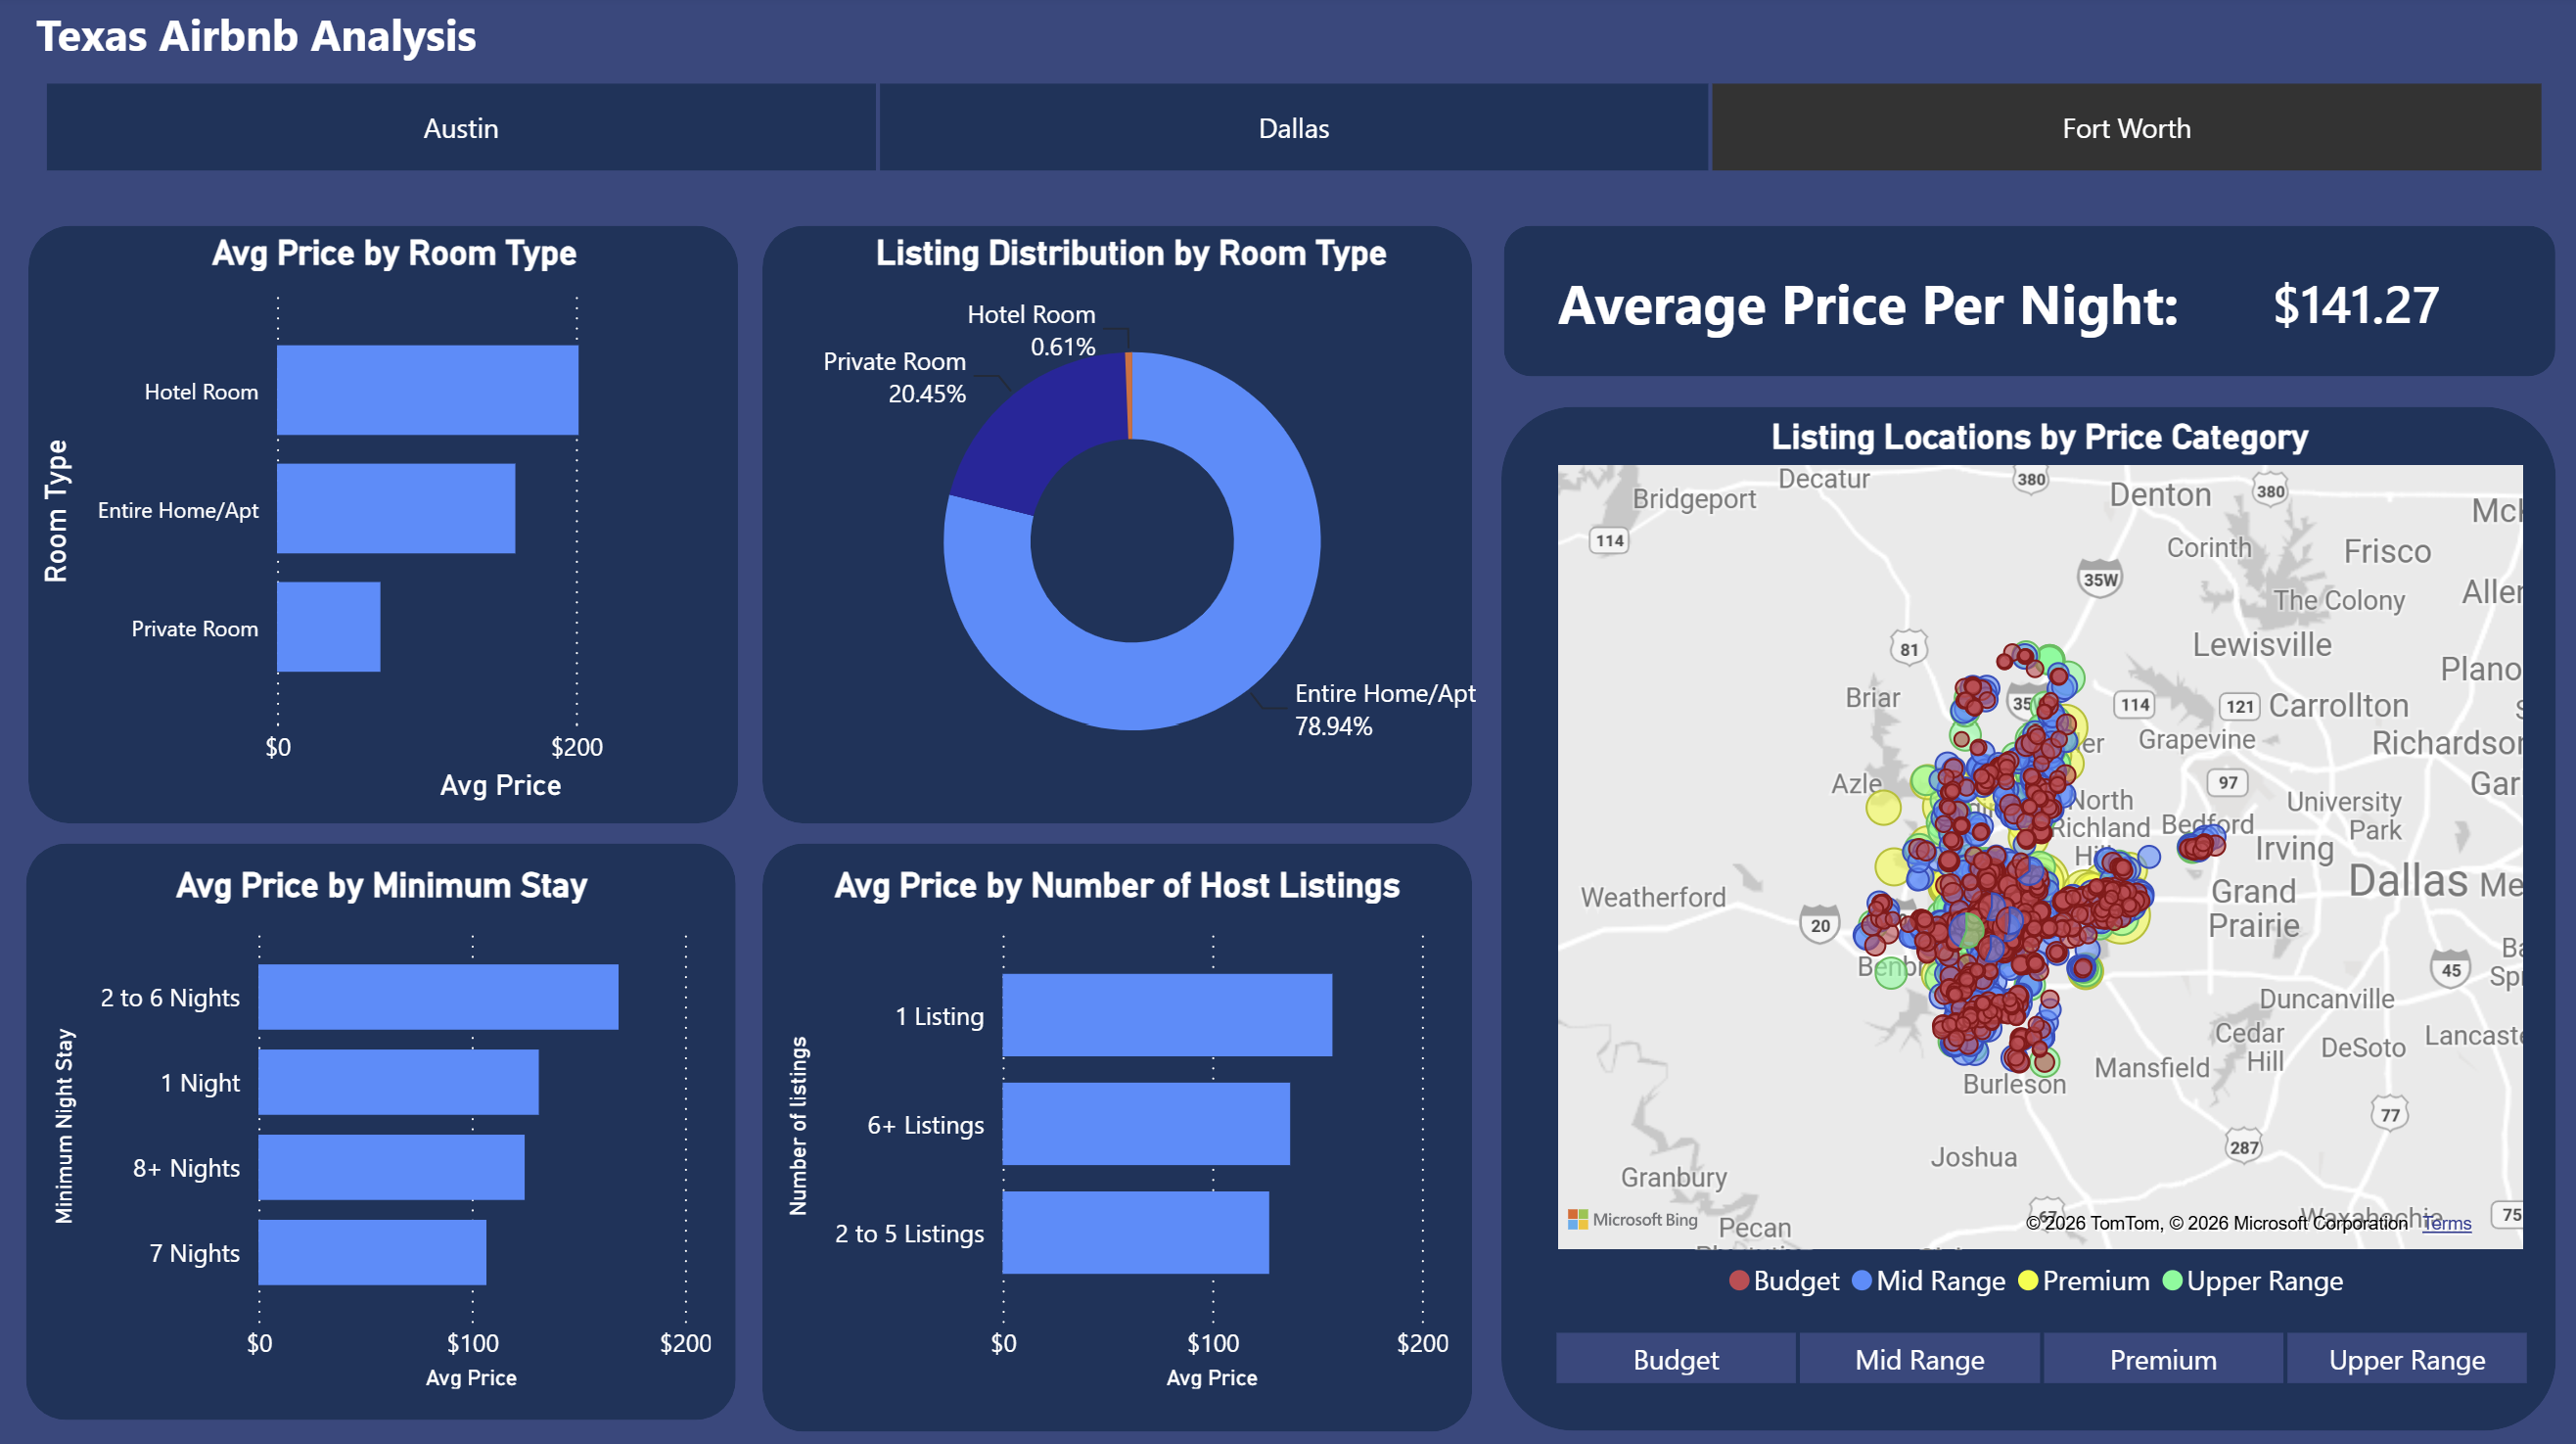

What the dashboard file says about the page in this screenshot:
{"tool":"powerbi","page":{"name":"Page 1","canvas":[1280,720],"ordinal":0},"visuals":[{"type":"shape","box":[744.3,114.3,518.6,74.3],"z":0},{"type":"shape","box":[742.9,204.3,520,504.3],"z":1000},{"type":"shape","box":[378.6,114.3,350,294.3],"z":2000},{"type":"shape","box":[378.6,418.6,350,290],"z":3000},{"type":"shape","box":[15.7,418.6,350,284.3],"z":4000},{"type":"shape","box":[17.1,114.3,350,294.3],"z":5000},{"type":"slicer","fields":{"Values":["public listings.city"]},"box":[0,37.1,1280,57.1],"z":6000},{"type":"cardVisual","title":"Avg Nightly Price","fields":{"Data":["Avg(public listings.price)"]},"box":[1094.3,114.3,145.7,74.3],"z":7000},{"type":"clusteredBarChart","title":"Avg Price by Room Type","fields":{"Category":["public listings.room_type"],"Y":["Avg(public listings.price)"]},"box":[17.1,118.6,361.4,284.3],"z":8000},{"type":"donutChart","title":"Listing Distribution by Room Type","fields":{"Category":["public listings.room_type"],"Y":["CountNonNull(public listings.price)"]},"box":[378.6,118.6,364.3,284.3],"z":9000},{"type":"map","title":"Listing Locations by Price Category","fields":{"Y":["public listings.latitude"],"X":["public listings.longitude"],"Size":["Avg(public listings.price)"],"Series":["public listings.price_category"]},"box":[765.7,208.6,485.7,444.3],"z":10000},{"type":"slicer","fields":{"Values":["public listings.price_category"]},"box":[744.3,652.9,528.6,38.6],"z":11000},{"type":"clusteredBarChart","title":"Avg Price by Minimum Stay","fields":{"Category":["public listings.minimum_stay_category"],"Y":["Avg(public listings.price)"]},"box":[24.3,430,334.3,262.9],"z":12000},{"type":"clusteredBarChart","title":"Avg Price by Number of Host Listings","fields":{"Category":["public listings.host_category"],"Y":["Avg(public listings.price)"]},"box":[385.7,430,335.7,262.9],"z":13000},{"type":"textbox","box":[15.7,0,315.7,40],"z":13001},{"type":"textbox","box":[765.7,128.6,344.3,47.1],"z":13002}]}

Visuals, with their boxes in screenshot pixels (x1, y1, x2, y2), scaled from the page's 1280x720 canvas onto the 2576x1444 screenshot:
shape: <bbox>1497, 229, 2542, 378</bbox>
shape: <bbox>1495, 410, 2542, 1421</bbox>
shape: <bbox>761, 229, 1466, 819</bbox>
shape: <bbox>761, 840, 1466, 1421</bbox>
shape: <bbox>31, 840, 736, 1410</bbox>
shape: <bbox>34, 229, 739, 819</bbox>
slicer - public listings.city: <bbox>0, 74, 2575, 189</bbox>
"Avg Nightly Price" cardVisual: <bbox>2202, 229, 2496, 378</bbox>
"Avg Price by Room Type" clusteredBarChart: <bbox>34, 238, 761, 808</bbox>
"Listing Distribution by Room Type" donutChart: <bbox>761, 238, 1495, 808</bbox>
"Listing Locations by Price Category" map: <bbox>1541, 418, 2518, 1310</bbox>
slicer - public listings.price_category: <bbox>1497, 1310, 2561, 1387</bbox>
"Avg Price by Minimum Stay" clusteredBarChart: <bbox>49, 862, 721, 1389</bbox>
"Avg Price by Number of Host Listings" clusteredBarChart: <bbox>776, 862, 1451, 1389</bbox>
textbox: <bbox>31, 0, 667, 80</bbox>
textbox: <bbox>1541, 257, 2233, 352</bbox>
